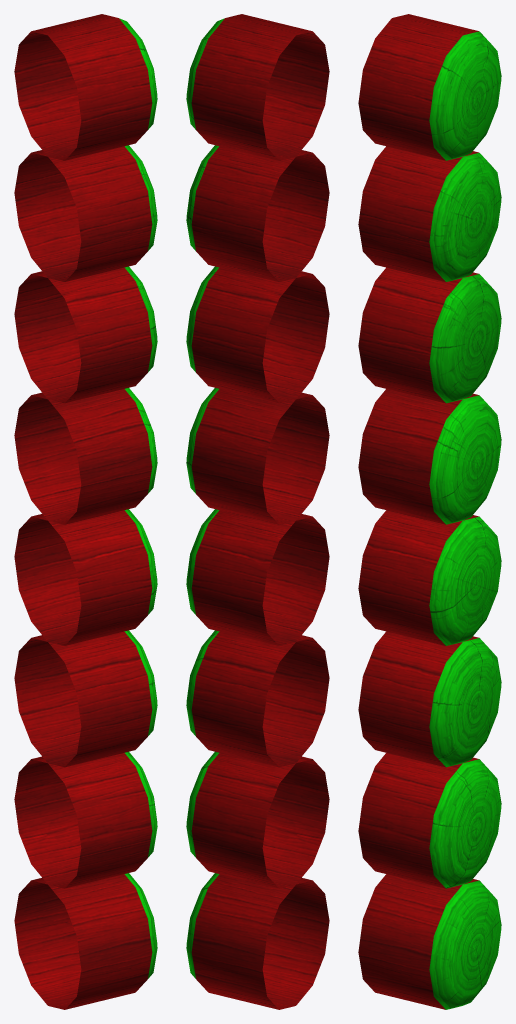
The model's file is WallLogEnd01.fbx.
The picture shows the model from 3 angles, left to right: view 1: azimuth 30°, elevation 25°; view 2: azimuth 150°, elevation 25°; view 3: azimuth 330°, elevation 25°; orthographic projection.
Visible parts, largest first — view 1: WallLogEnd01_LOD0; view 2: WallLogEnd01_LOD0; view 3: WallLogEnd01_LOD0.
Part boxes in pixels (x1,y1,x2,y2): WallLogEnd01_LOD0: (14,14,157,1009); WallLogEnd01_LOD0: (186,14,329,1009); WallLogEnd01_LOD0: (358,14,501,1009).
Size of what is drawn, in the model's own units: 0.1835 by 2 by 0.25.
